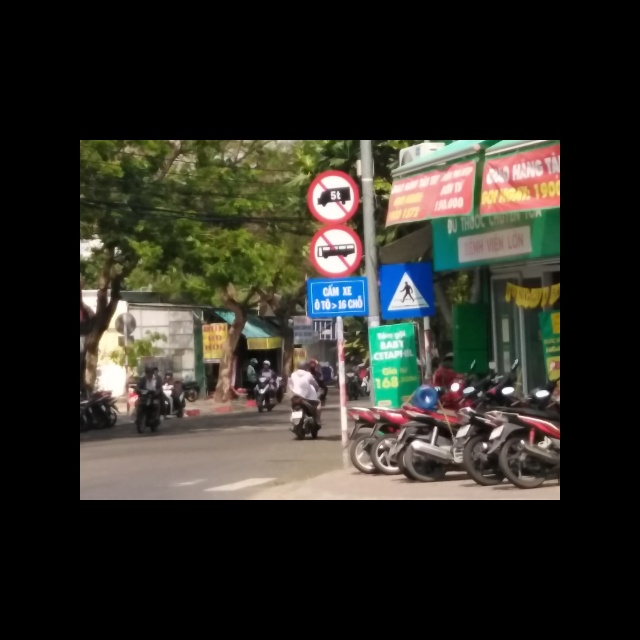Cấm xe tải: (307, 171, 359, 223)
Cấm xe xe khách: (309, 224, 362, 277)
Đường dành cho người đi bộ: (377, 263, 436, 317)
